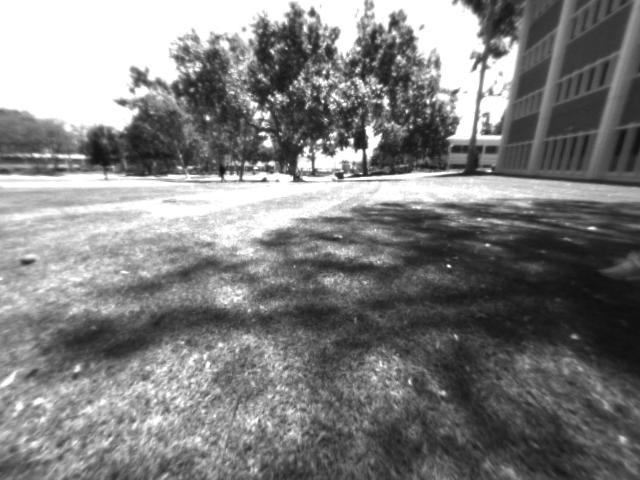dogtoy: (13, 246, 42, 269)
